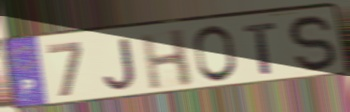7: (44, 39, 87, 100)
H: (139, 26, 196, 91)
J: (101, 36, 139, 92)
O: (192, 24, 240, 85)
S: (287, 12, 340, 75)
T: (241, 20, 280, 77)
